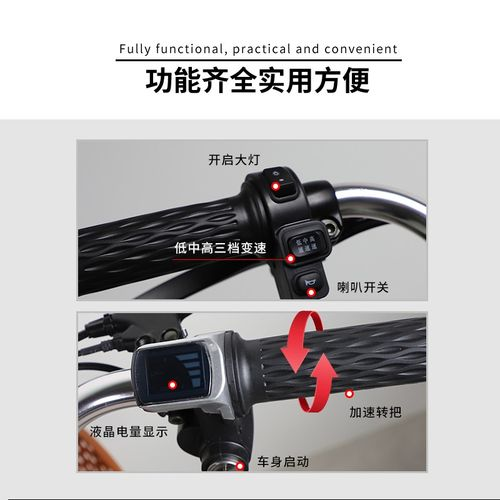empty: (82, 309, 428, 477)
